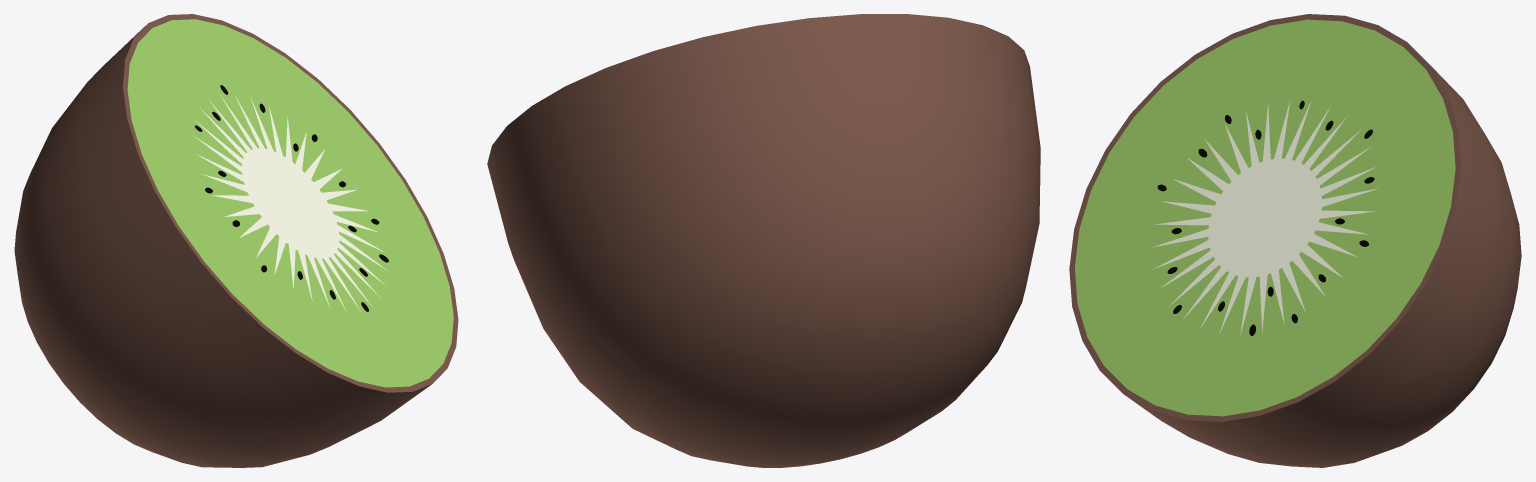
The model's file is kiwi_fruit.gltf.
3 views of the same model, side by side, from view 1: azimuth 30°, elevation 25°; view 2: azimuth 150°, elevation 25°; view 3: azimuth 270°, elevation 25° (orthographic). The views are drawn at different scales.
Visible parts, largest first — view 1: Sphere.480; view 2: Sphere.480; view 3: Sphere.480.
Part boxes in pixels (x1=…): Sphere.480: x1=14, y1=14, x2=458, y2=467; Sphere.480: x1=487, y1=14, x2=1040, y2=467; Sphere.480: x1=1069, y1=14, x2=1521, y2=467.
Bounding box in the file's own units: 2.21 × 2.12 × 2.21.
1 material, 1 textured.
